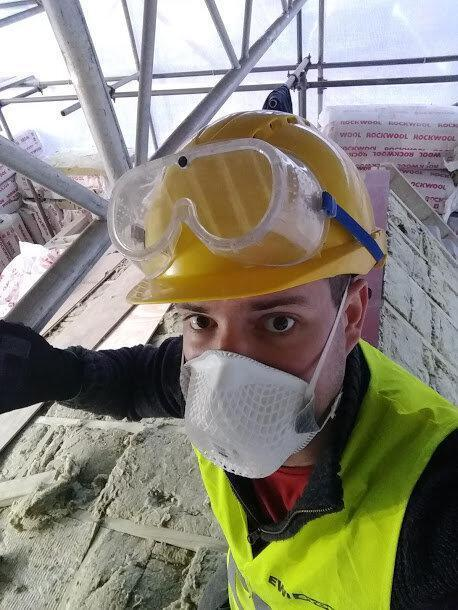helmet: (124, 111, 387, 306)
